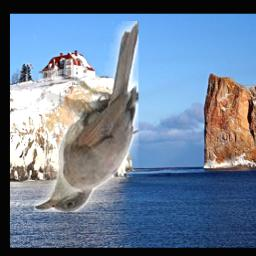Cuckoo: (35, 22, 139, 213)
